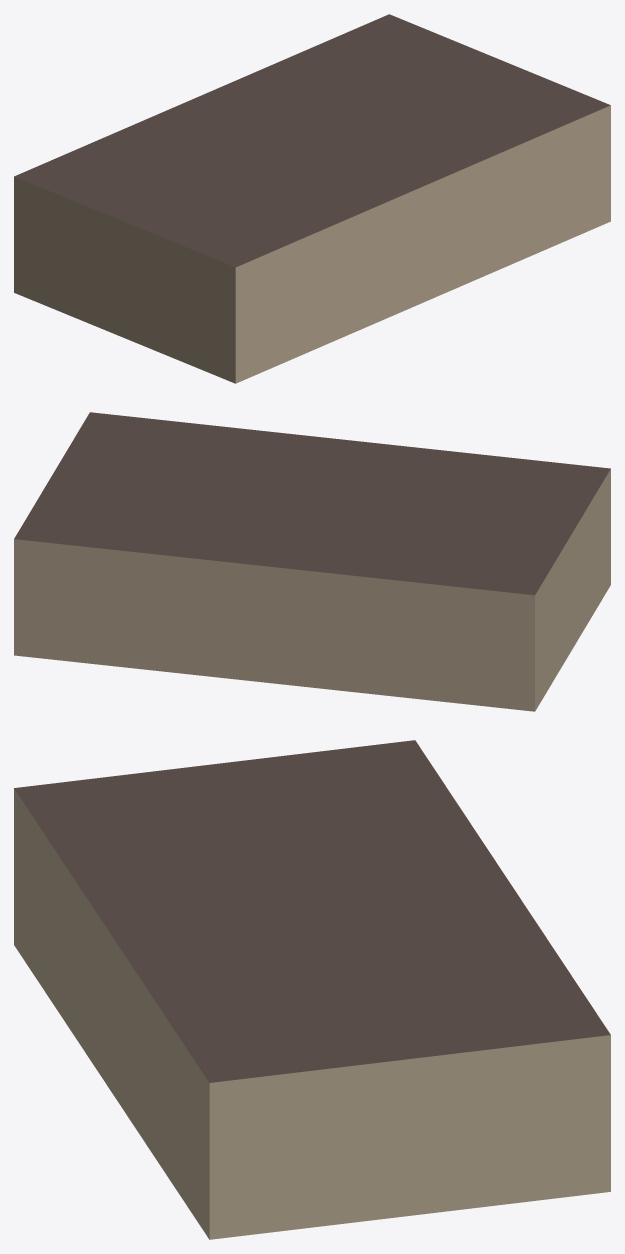
The picture shows the model from 3 angles, top to bottom: view 1: azimuth 30°, elevation 25°; view 2: azimuth 150°, elevation 25°; view 3: azimuth 270°, elevation 25°; orthographic projection. The views are drawn at different scales.
Visible parts, largest first — view 1: HP-w859488637; view 2: HP-w859488637; view 3: HP-w859488637.
Part boxes in pixels (x1,y1,x2,y2): HP-w859488637: [14, 14, 610, 383]; HP-w859488637: [14, 412, 610, 711]; HP-w859488637: [14, 740, 610, 1239].
Bounding box in the file's own units: 42.19 × 9 × 31.04.
